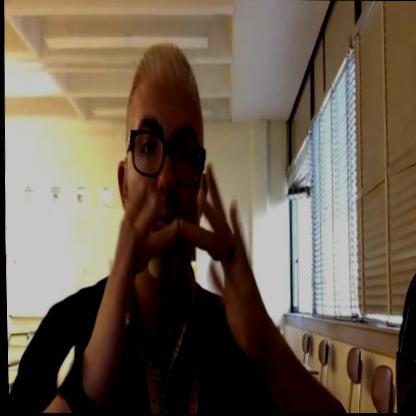Internet: (87, 165, 271, 395)
